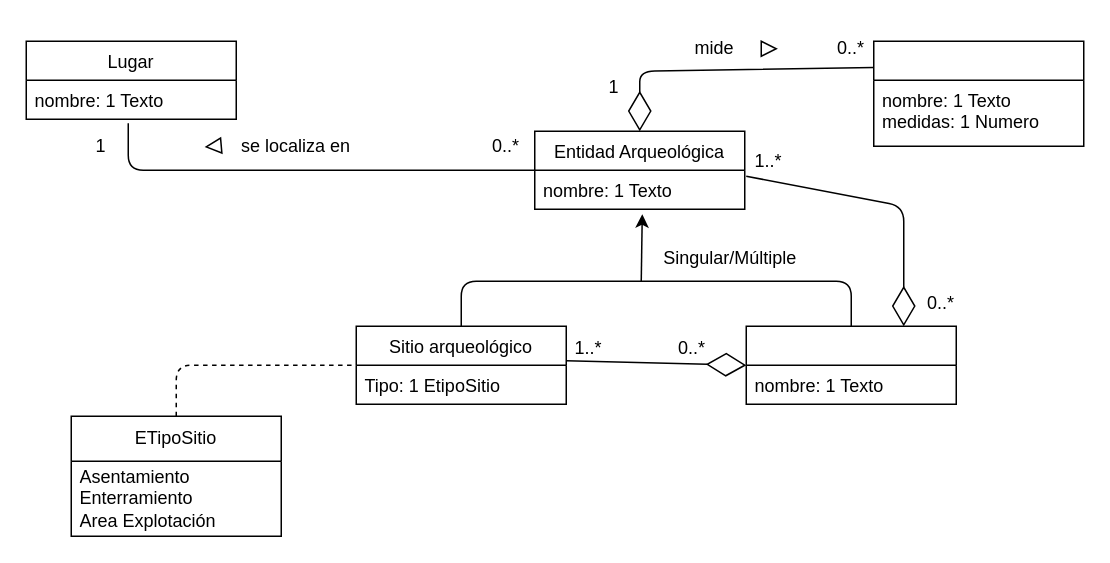
Image size: 1110x563. Some labels were removed from this diagram. Here are the shapes that lost their labels. From the top down, the box of each, then its label:
(872, 40, 1084, 146): Dimensión
(745, 325, 956, 404): Conjunto arqueológico
